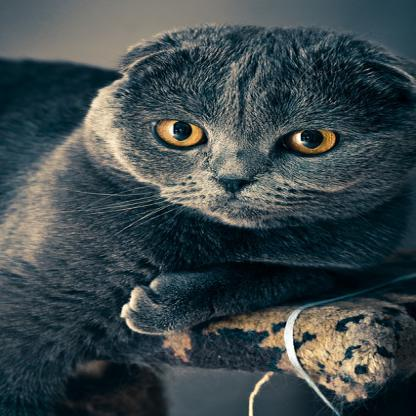cat: (2, 29, 415, 316)
